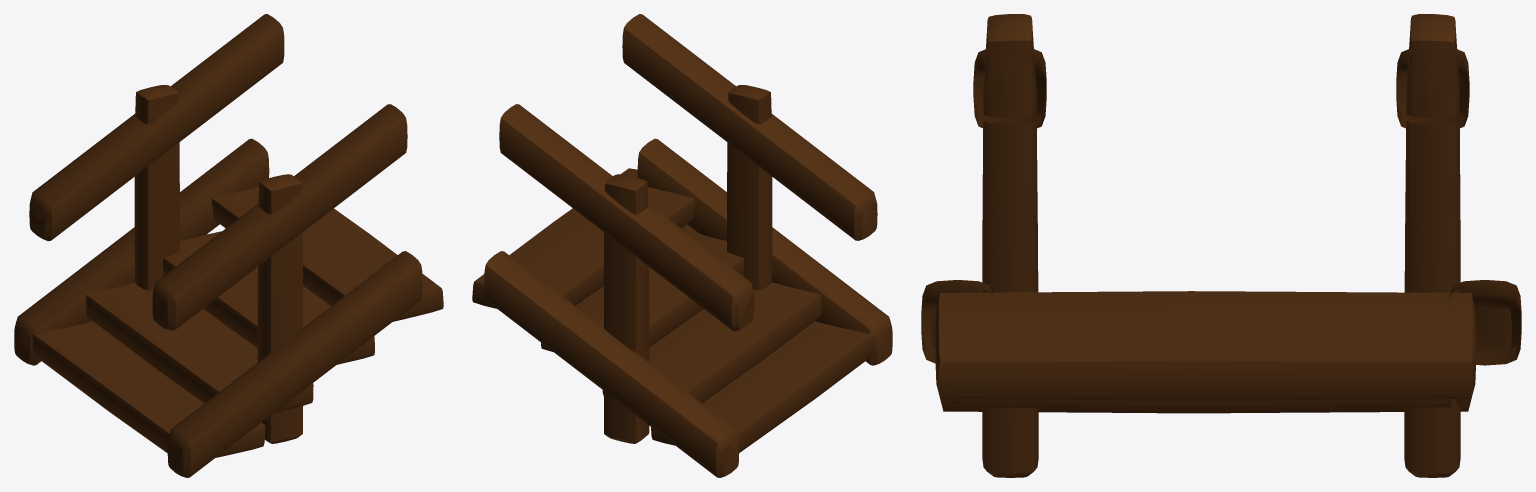
Rendered from Stairs_Modular_Start.fbx.
3 views of the same model, side by side, from view 1: azimuth 30°, elevation 25°; view 2: azimuth 150°, elevation 25°; view 3: azimuth 270°, elevation 25° (orthographic). The views are drawn at different scales.
Parts seen in each view (by area): view 1: Stairs_Modular_Start; view 2: Stairs_Modular_Start; view 3: Stairs_Modular_Start.
Boxes of the visible parts, <box> form: Stairs_Modular_Start: <box>14,14,443,477</box>; Stairs_Modular_Start: <box>472,14,892,477</box>; Stairs_Modular_Start: <box>921,14,1521,477</box>.
Size of the model in its own units: 224 by 243 by 256.
